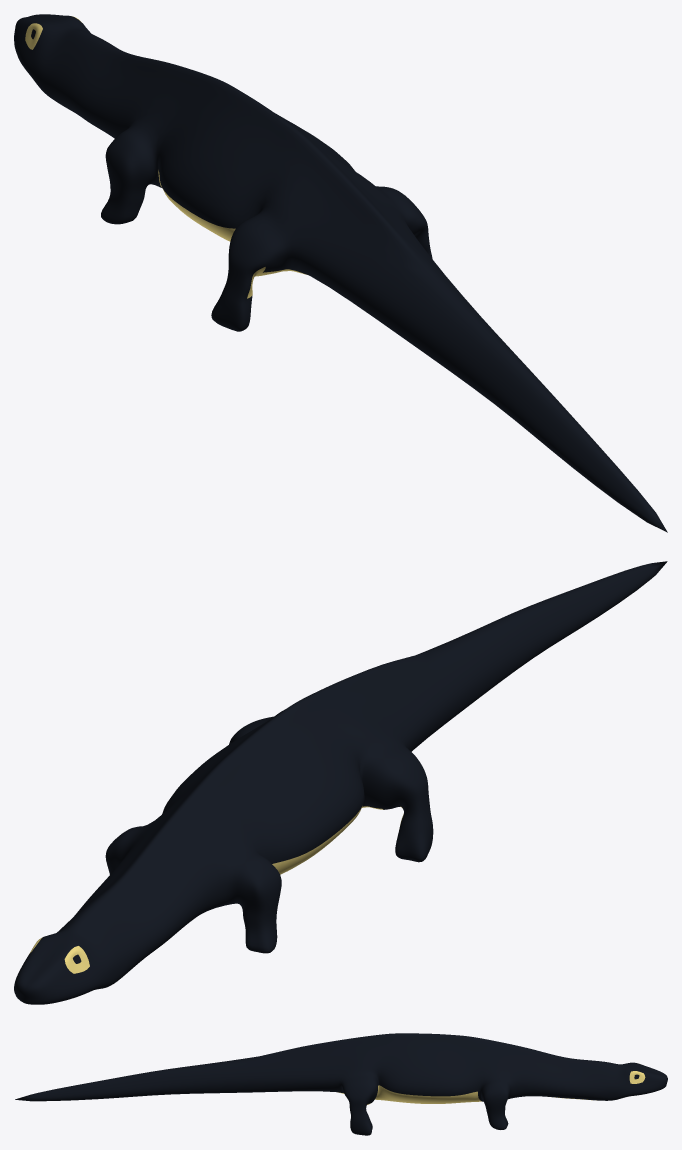
The model's file is proterogyrinus_scheelei_model.gltf.
3 views of the same model, one above another, from view 1: azimuth 30°, elevation 25°; view 2: azimuth 150°, elevation 25°; view 3: azimuth 270°, elevation 25° (orthographic). The views are drawn at different scales.
Visible parts, largest first — view 1: KomodoMesh; view 2: KomodoMesh; view 3: KomodoMesh.
Part boxes in pixels (left/top/right/bottom): KomodoMesh: left=14, top=14, right=667, bottom=532; KomodoMesh: left=14, top=561, right=667, bottom=1004; KomodoMesh: left=15, top=1033, right=667, bottom=1135.
Size of the model in its own units: 0.9628 by 0.6627 by 5.05.
